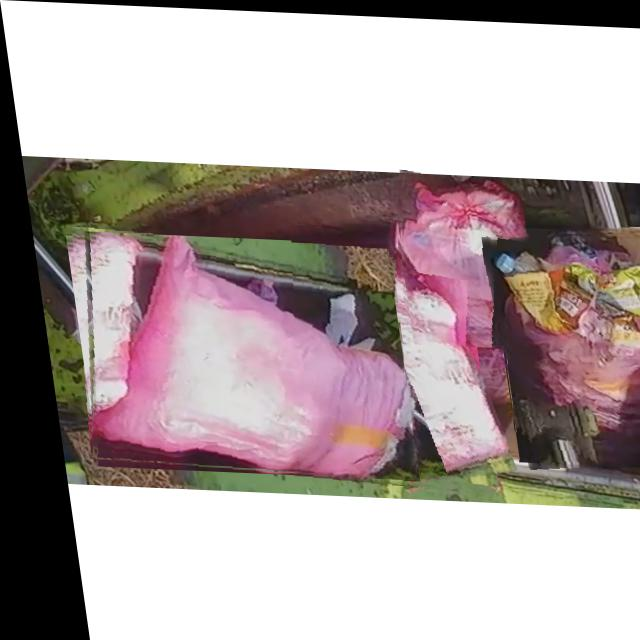other_trashbag: (78, 235, 398, 474), (489, 228, 640, 461), (341, 272, 494, 483), (393, 182, 520, 343)
